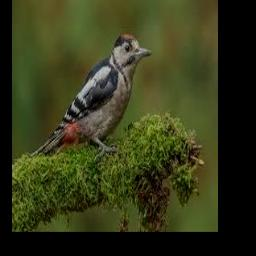Woodpecker: (31, 33, 151, 158)
